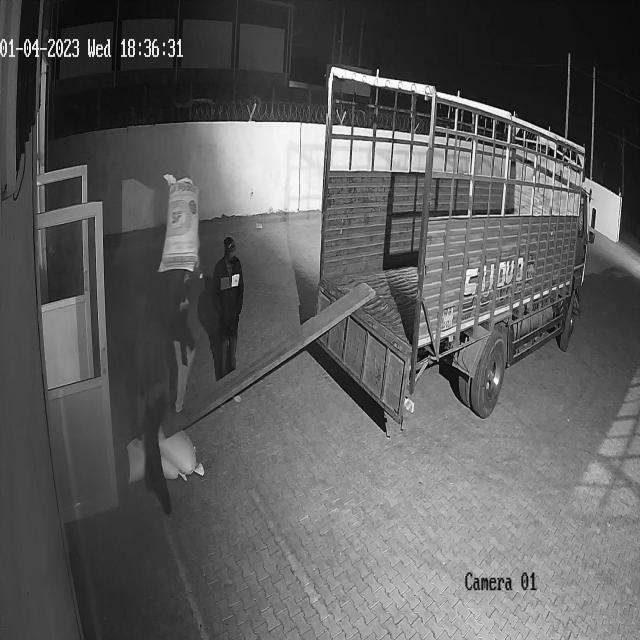sack: (157, 174, 200, 277), (126, 438, 187, 483), (158, 426, 204, 474)
